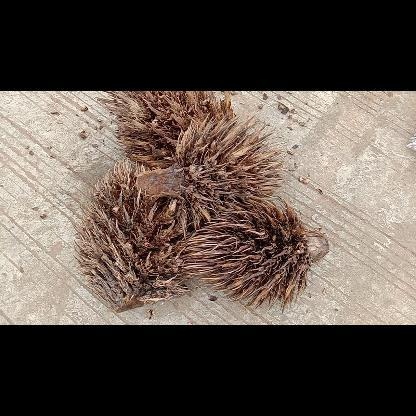Janjang kosong: (72, 160, 190, 314), (136, 110, 286, 216), (186, 204, 328, 309), (97, 92, 236, 170)
